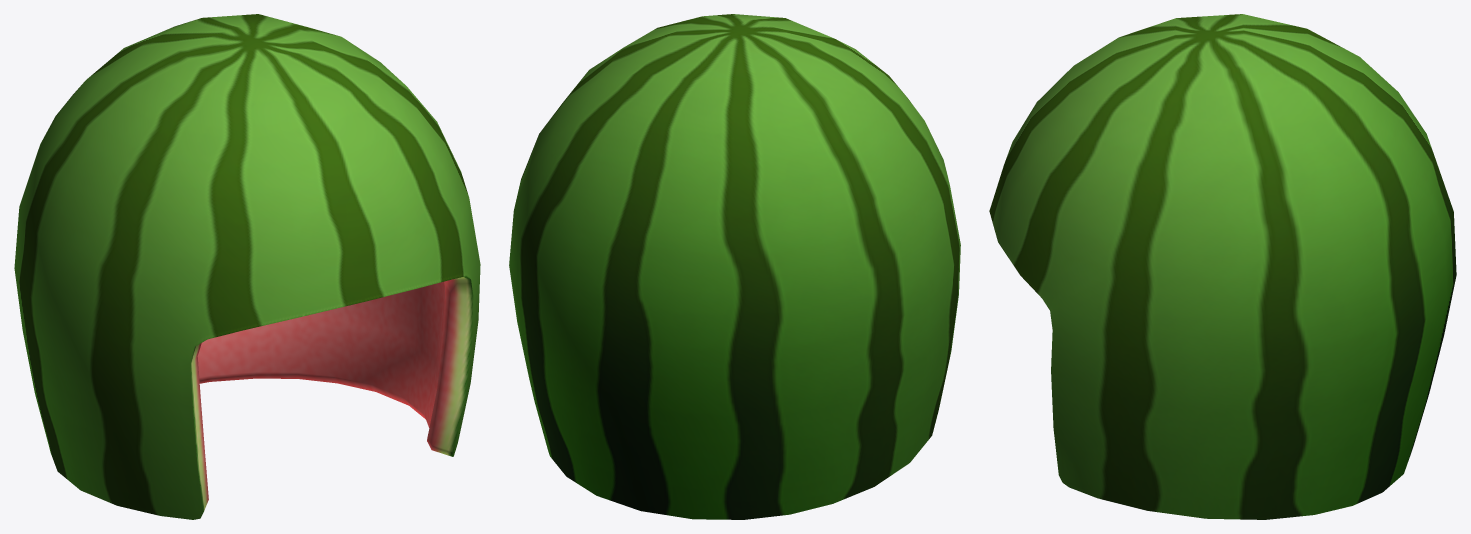
3 views of the same model, side by side, from view 1: azimuth 30°, elevation 25°; view 2: azimuth 150°, elevation 25°; view 3: azimuth 270°, elevation 25° (orthographic). The views are drawn at different scales.
Parts seen in each view (by area): view 1: model_41; view 2: model_41; view 3: model_41.
Part boxes in pixels (box(x1,y1,x2,y2)): model_41: box(14, 14, 480, 519); model_41: box(509, 14, 960, 519); model_41: box(989, 14, 1456, 519).
Bounding box in the file's own units: 0.9609 × 0.9706 × 0.9823.
Materials: 1 (1 with a texture image).
